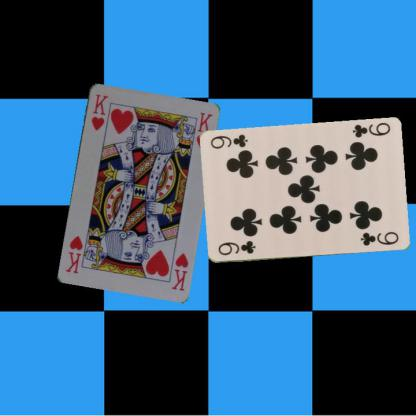9c: (215, 238, 256, 257), (350, 120, 391, 139)
Kh: (168, 250, 190, 292), (88, 91, 110, 132)
